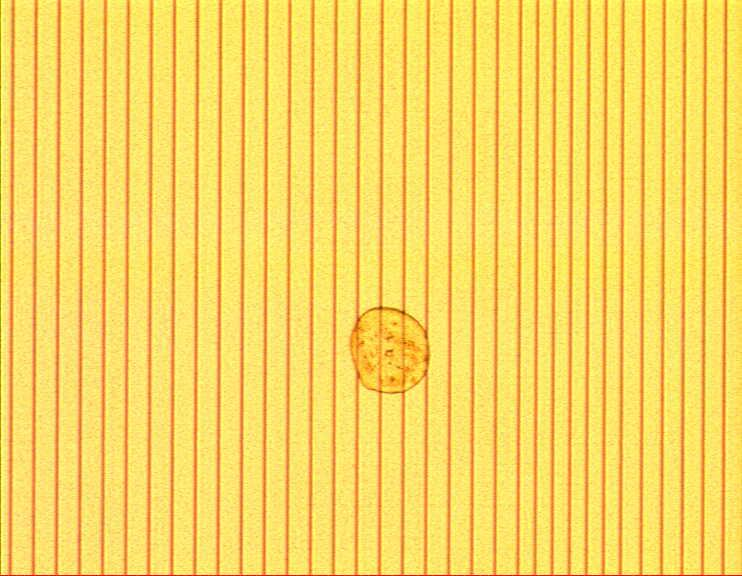PO CONTAMINATION: (339, 300, 443, 404)
